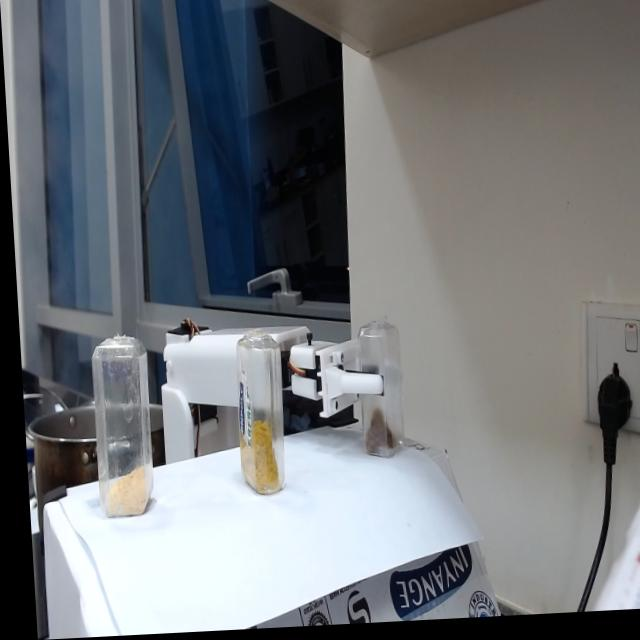curry_powder: (230, 417, 278, 498)
garlic_powder: (97, 468, 142, 519)
maggie_open: (363, 412, 389, 463)
